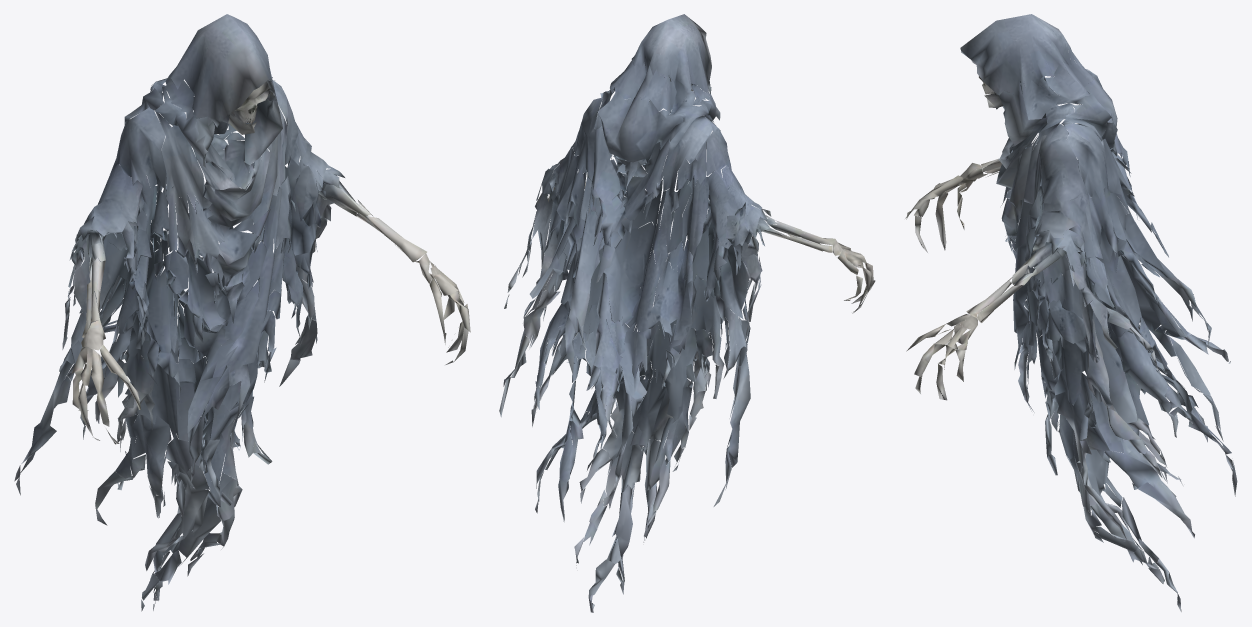
Rendered from flying_wraith.glb.
3 views of the same model, side by side, from view 1: azimuth 30°, elevation 25°; view 2: azimuth 150°, elevation 25°; view 3: azimuth 270°, elevation 25° (orthographic). The views are drawn at different scales.
Visible parts, largest first — view 1: wraith; view 2: wraith; view 3: wraith.
Part boxes in pixels (box(x1,y1,x2,y2)): wraith: box(14, 14, 470, 611); wraith: box(499, 14, 875, 612); wraith: box(905, 14, 1237, 611).
Size of the model in its own units: 0.6137 by 0.9981 by 0.5074.
Materials: 1 (1 with a texture image).
